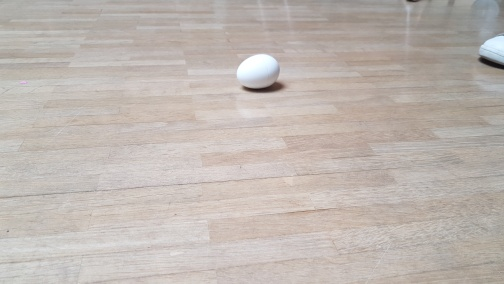egg: (235, 51, 281, 90)
